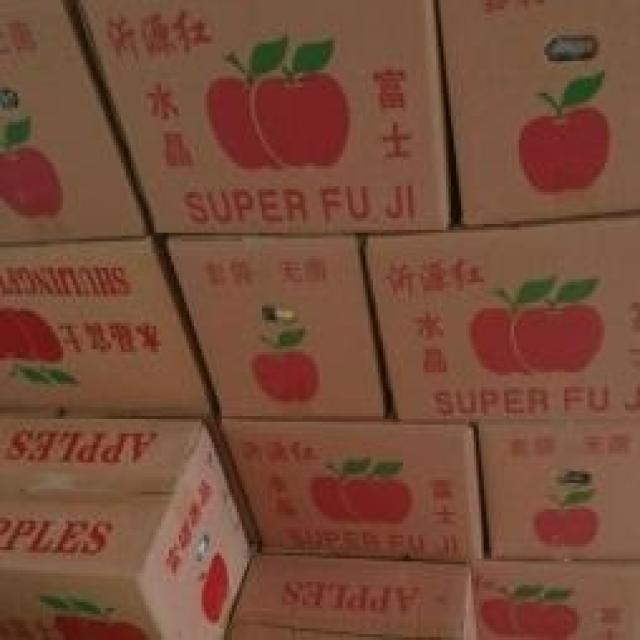box: (76, 0, 461, 233), (363, 212, 640, 422), (0, 413, 254, 640), (436, 0, 640, 227), (219, 399, 484, 559), (166, 233, 393, 419), (0, 233, 219, 419), (476, 416, 640, 559), (227, 553, 479, 640), (469, 559, 640, 640), (202, 416, 262, 553)
